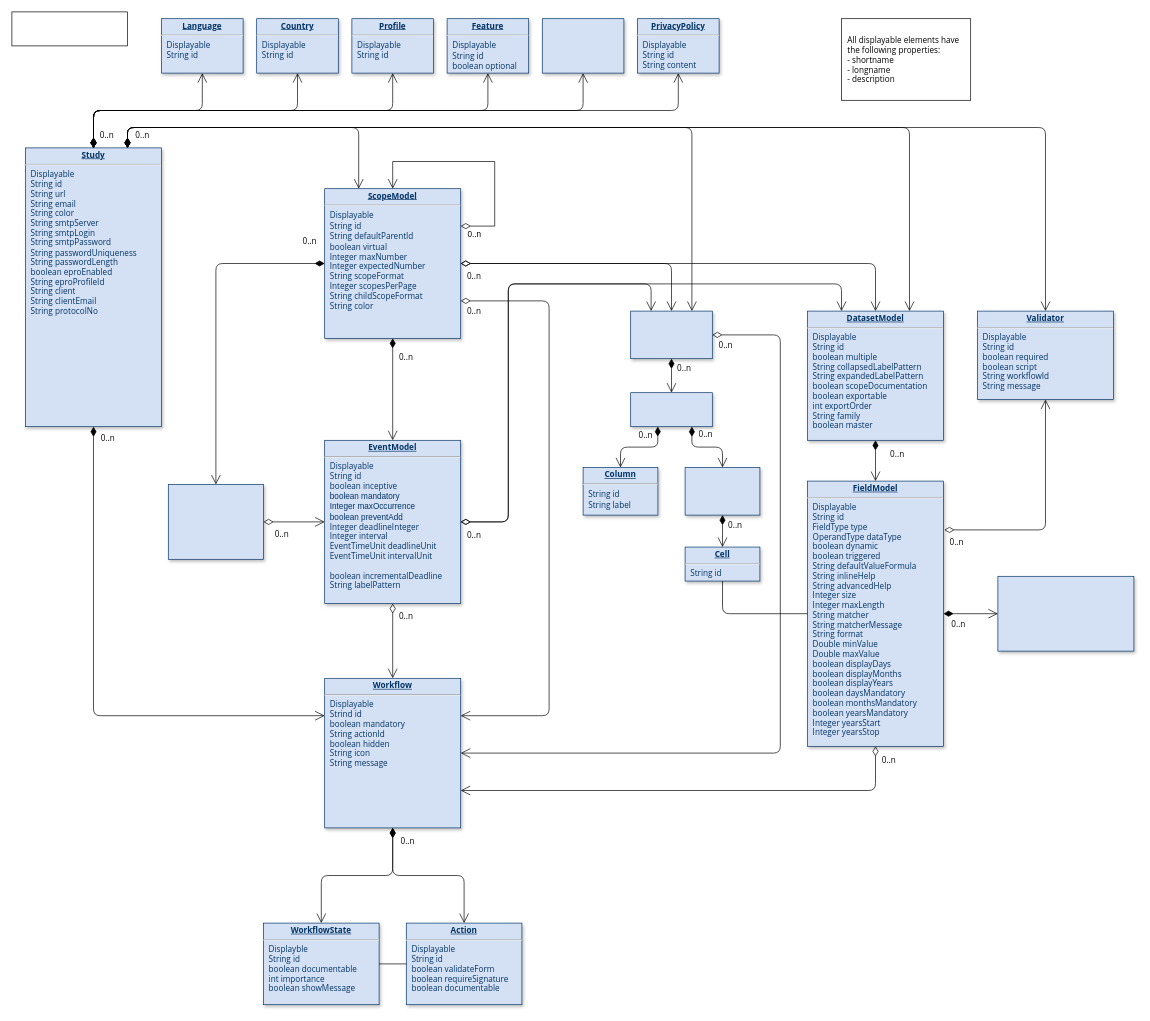
Some shapes in this 1150 by 1021 pixel diagram are drawn without their labels. Each missing label, with the centre of its shape:
Configuration class diagram Last update: 2025-04-01: the point at 69,28
EventGroup Displayable String id String icon: the point at 216,522
FormModel Displayable String id: the point at 671,335
Layout String id: the point at 671,410
Line String cssCode: the point at 723,492
Menu Displayable String id: the point at 583,46
PossibleValue String id String label boolean specify: the point at 1066,614
